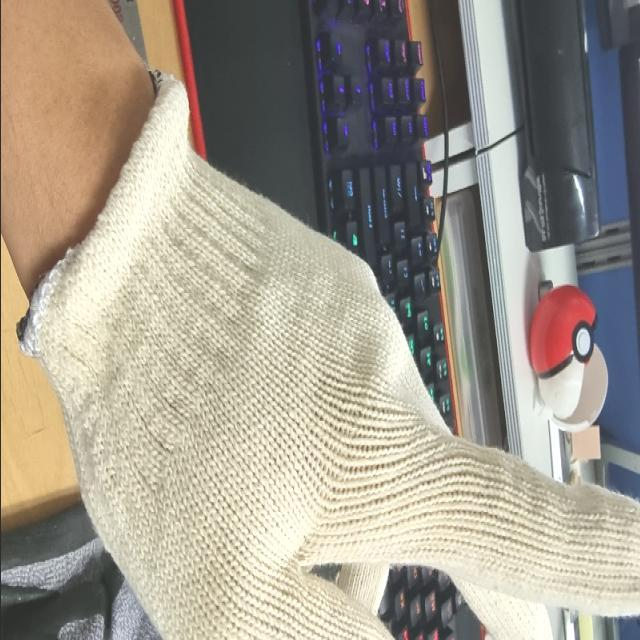Gloves: (18, 97, 640, 640)
